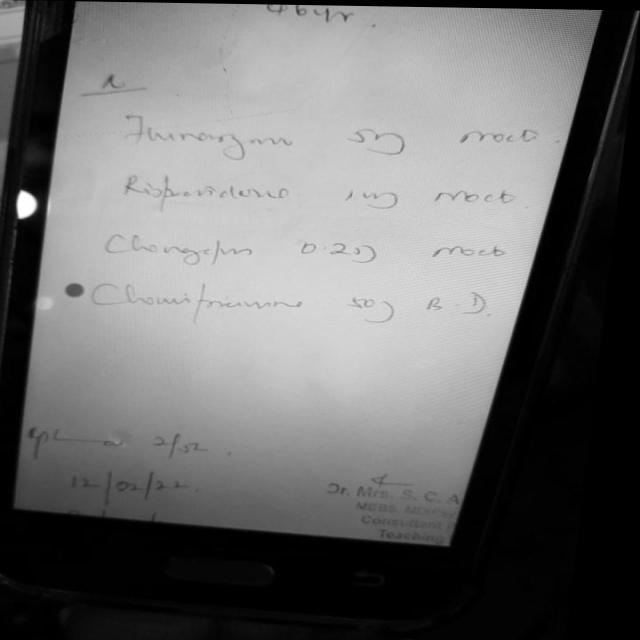Prescription: (123, 111, 545, 157), (104, 223, 514, 264), (95, 279, 500, 319), (122, 172, 524, 212)
